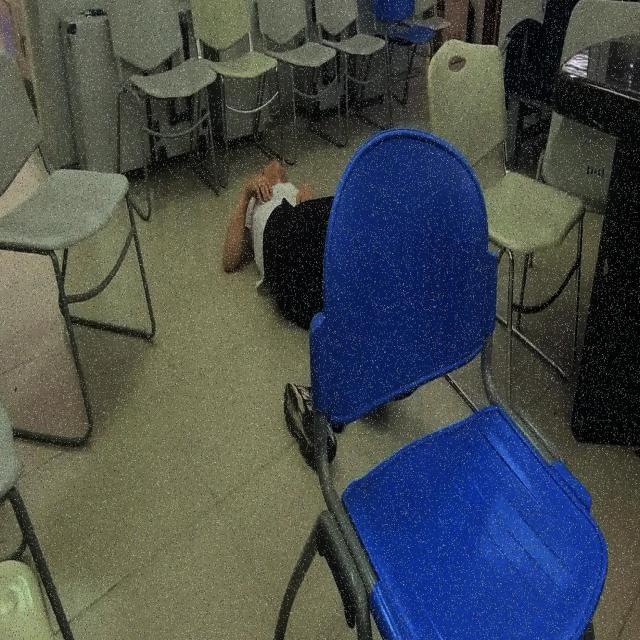fall: (224, 154, 421, 474)
